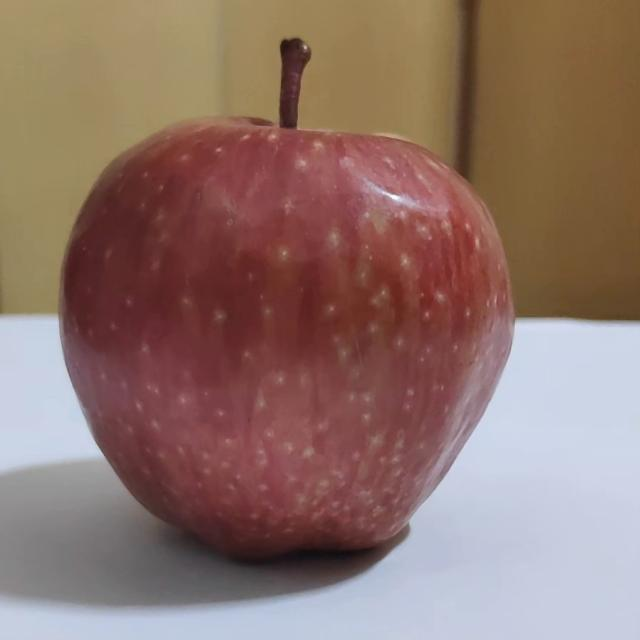apple: (48, 43, 610, 640)
